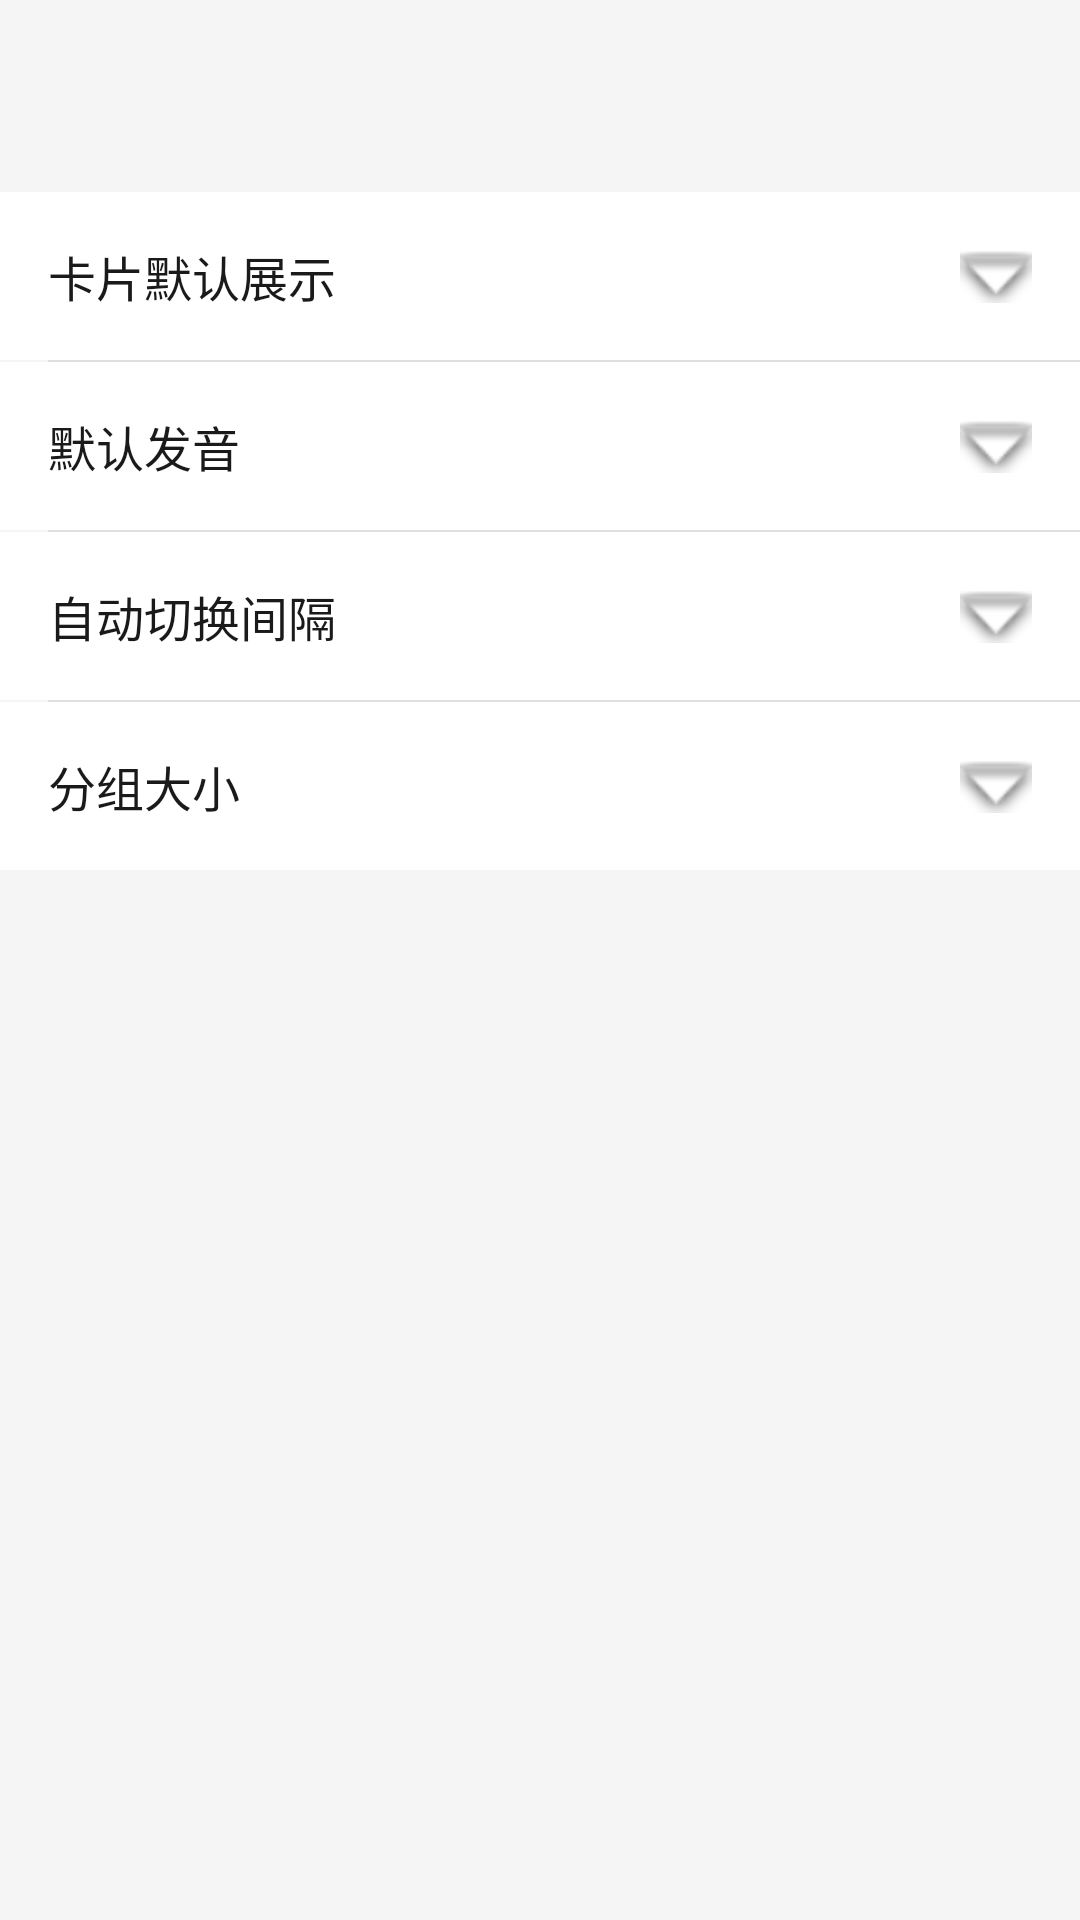

Where to tap for icons on this 1080w x 1920h app screen, as [x,y]:
arrow down float: [996,276], [996,446], [996,616], [996,786]
